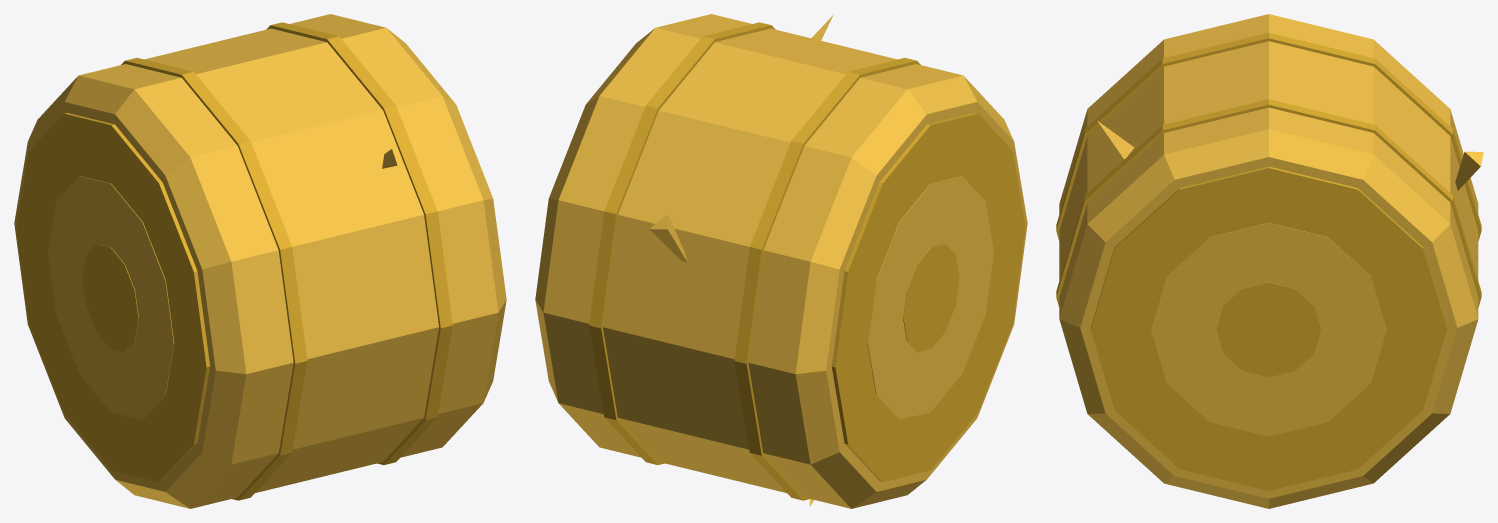
Rendered from hayBale.glb.
3 views of the same model, side by side, from view 1: azimuth 30°, elevation 25°; view 2: azimuth 150°, elevation 25°; view 3: azimuth 270°, elevation 25° (orthographic). The views are drawn at different scales.
Visible parts, largest first — view 1: hayBale-m; view 2: hayBale-m; view 3: hayBale-m.
Part boxes in pixels (x1,y1,x2,y2): hayBale-m: (14,14,506,508); hayBale-m: (535,14,1027,508); hayBale-m: (1056,14,1483,508).
Bounding box in the file's own units: 1.24 × 1.66 × 1.63.
